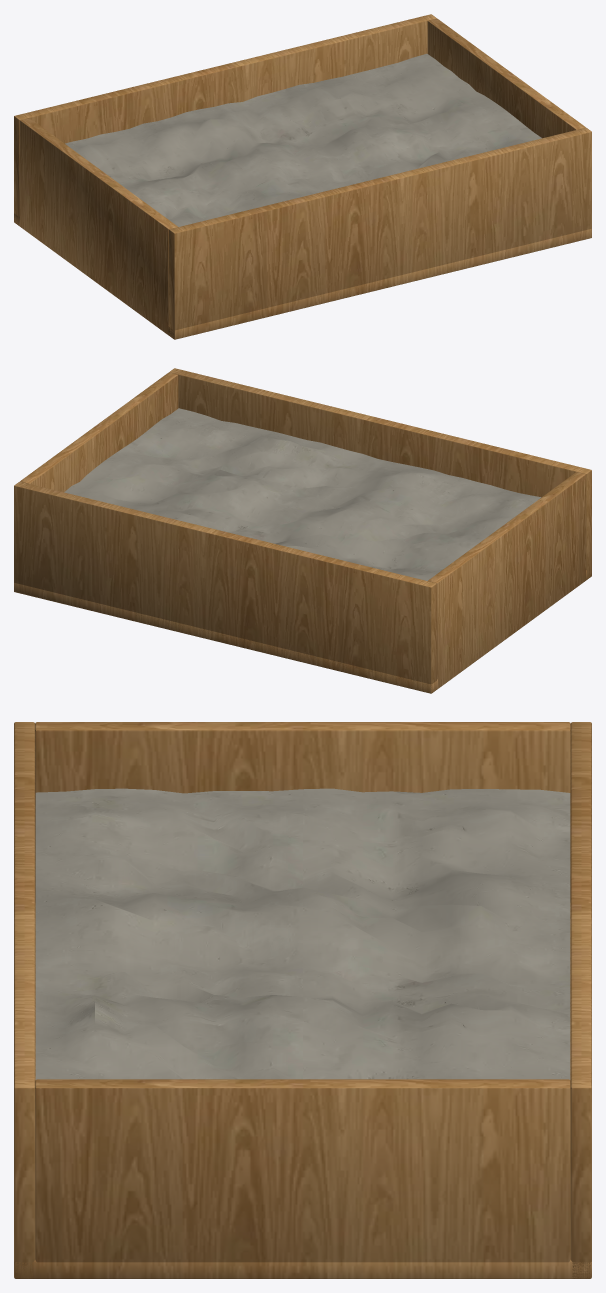
Rendered from REV-ARG-002.glb.
3 renders of one model, top to bottom at view 1: azimuth 30°, elevation 25°; view 2: azimuth 150°, elevation 25°; view 3: azimuth 270°, elevation 25°, orthographic. The views are drawn at different scales.
Visible parts, largest first — view 1: REV-ARG-002_lado-1, REV-ARG-002_argamassa, REV-ARG-002_cab-1, REV-ARG-002_lado1, REV-ARG-002_cab1, REV-ARG-002_fundo; view 2: REV-ARG-002_lado1, REV-ARG-002_argamassa, REV-ARG-002_cab-1, REV-ARG-002_lado-1, REV-ARG-002_cab1, REV-ARG-002_fundo; view 3: REV-ARG-002_argamassa, REV-ARG-002_cab1, REV-ARG-002_cab-1, REV-ARG-002_lado-1, REV-ARG-002_lado1, REV-ARG-002_fundo.
Boxes of the visible parts, bbox=[...] form: REV-ARG-002_lado-1: bbox=[169, 127, 591, 339]; REV-ARG-002_argamassa: bbox=[65, 53, 541, 226]; REV-ARG-002_cab-1: bbox=[20, 118, 177, 334]; REV-ARG-002_lado1: bbox=[14, 14, 436, 225]; REV-ARG-002_cab1: bbox=[427, 18, 585, 138]; REV-ARG-002_fundo: bbox=[14, 213, 591, 339]; REV-ARG-002_lado1: bbox=[14, 481, 436, 690]; REV-ARG-002_argamassa: bbox=[64, 408, 541, 580]; REV-ARG-002_cab-1: bbox=[428, 472, 585, 688]; REV-ARG-002_lado-1: bbox=[169, 368, 591, 579]; REV-ARG-002_cab1: bbox=[20, 372, 178, 492]; REV-ARG-002_fundo: bbox=[14, 570, 586, 693]; REV-ARG-002_argamassa: bbox=[35, 788, 570, 1079]; REV-ARG-002_cab1: bbox=[35, 1079, 570, 1278]; REV-ARG-002_cab-1: bbox=[35, 722, 570, 902]; REV-ARG-002_lado-1: bbox=[14, 722, 35, 1278]; REV-ARG-002_lado1: bbox=[570, 722, 591, 1278]; REV-ARG-002_fundo: bbox=[14, 903, 591, 1278].
Bounding box in the file's own units: 0.9 × 0.22 × 0.6.
Materials: 2 (2 with a texture image).
